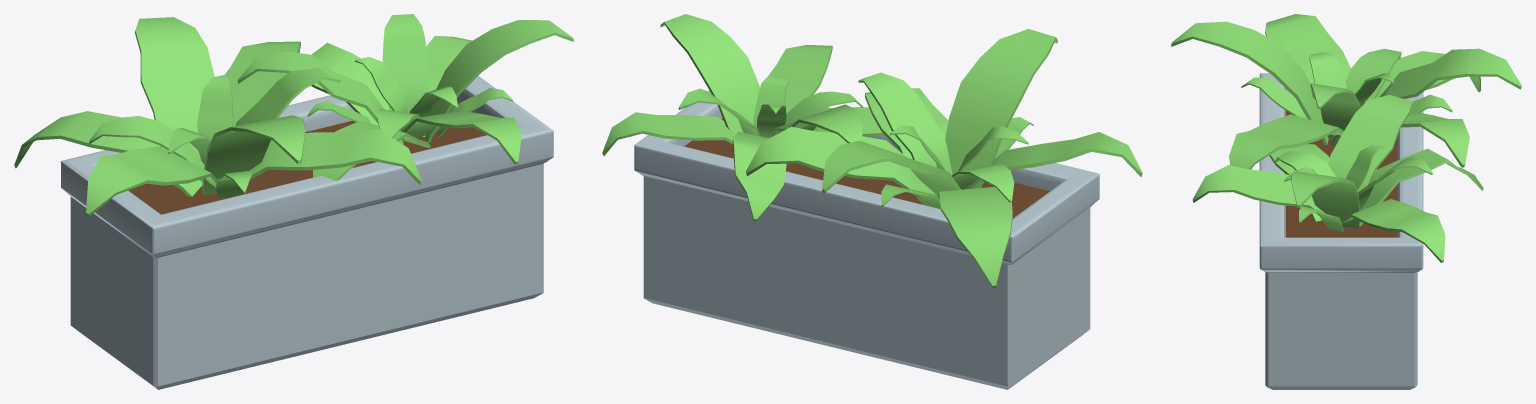
File: Planter middle.fbx
3 views of the same model, side by side, from view 1: azimuth 30°, elevation 25°; view 2: azimuth 150°, elevation 25°; view 3: azimuth 270°, elevation 25° (orthographic). The views are drawn at different scales.
Parts seen in each view (by area): view 1: Planter_Middle, Plants_Middle_Planter, Earth_Middle_Planter; view 2: Planter_Middle, Plants_Middle_Planter, Earth_Middle_Planter; view 3: Plants_Middle_Planter, Planter_Middle, Earth_Middle_Planter.
Part boxes in pixels (<box>): Planter_Middle: <box>60,76,553,389</box>; Plants_Middle_Planter: <box>14,14,573,216</box>; Earth_Middle_Planter: <box>128,100,486,214</box>; Planter_Middle: <box>634,90,1099,389</box>; Plants_Middle_Planter: <box>602,14,1142,288</box>; Earth_Middle_Planter: <box>684,118,1049,218</box>; Plants_Middle_Planter: <box>1171,14,1521,262</box>; Planter_Middle: <box>1259,73,1423,389</box>; Earth_Middle_Planter: <box>1286,110,1397,237</box>.
Bounding box in the file's own units: 174 × 89.26 × 120.
